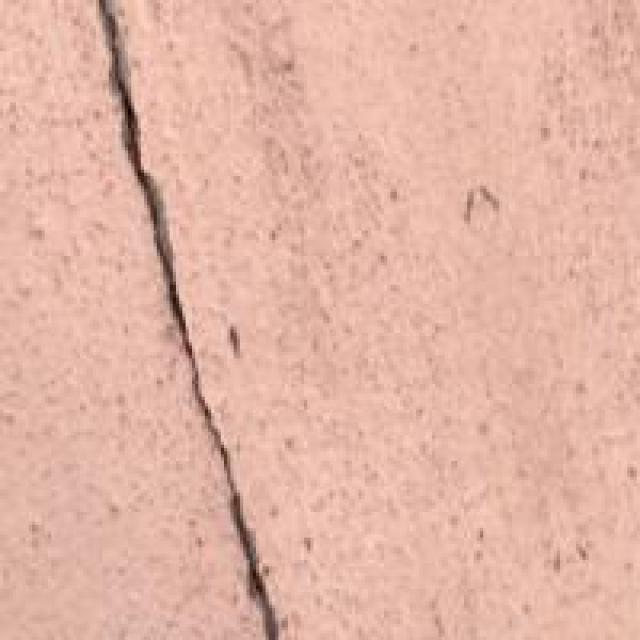Crack: (64, 0, 304, 627)
